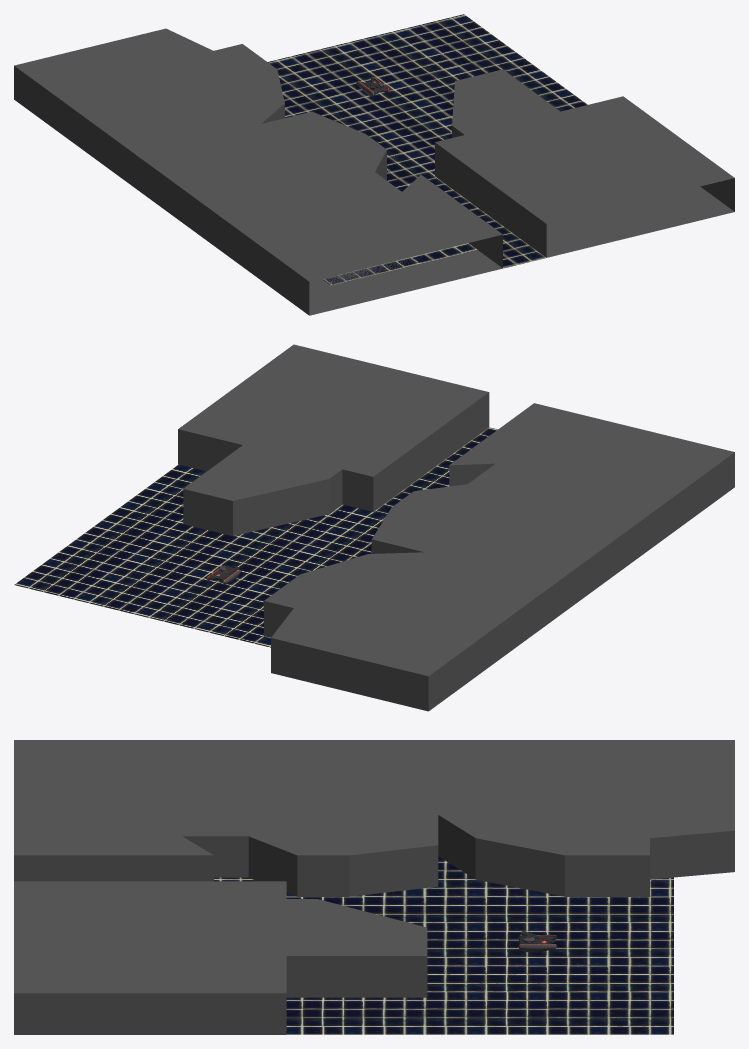
File: Tank.dae
3 renders of one model, top to bottom at view 1: azimuth 30°, elevation 25°; view 2: azimuth 150°, elevation 25°; view 3: azimuth 270°, elevation 25°, orthographic. The views are drawn at different scales.
Parts seen in each view (by area): view 1: Model; view 2: Model; view 3: Model, Tank.
Part boxes in pixels (box(x1,y1,x2,y2)): Model: box(14, 14, 734, 315); Model: box(14, 344, 734, 711); Model: box(14, 740, 734, 1034); Tank: box(518, 934, 556, 951).
Size of the model in its own units: 3519 by 4232 by 269.
7 materials, 1 textured.
